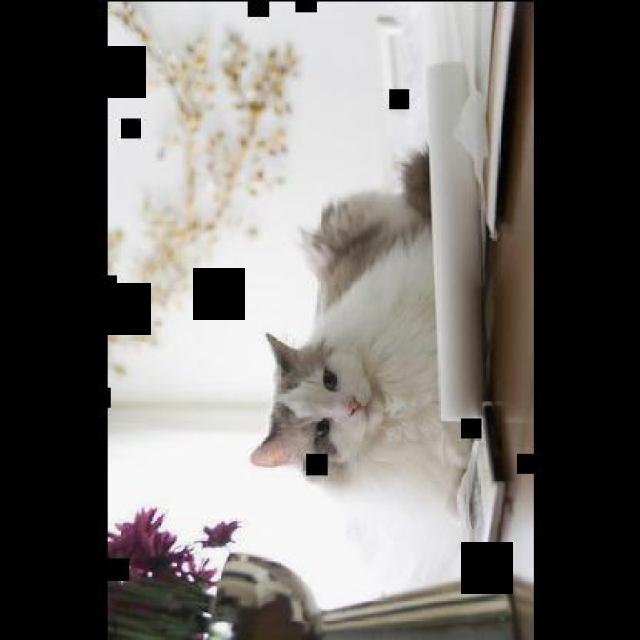unauthorized: (249, 143, 474, 512)
